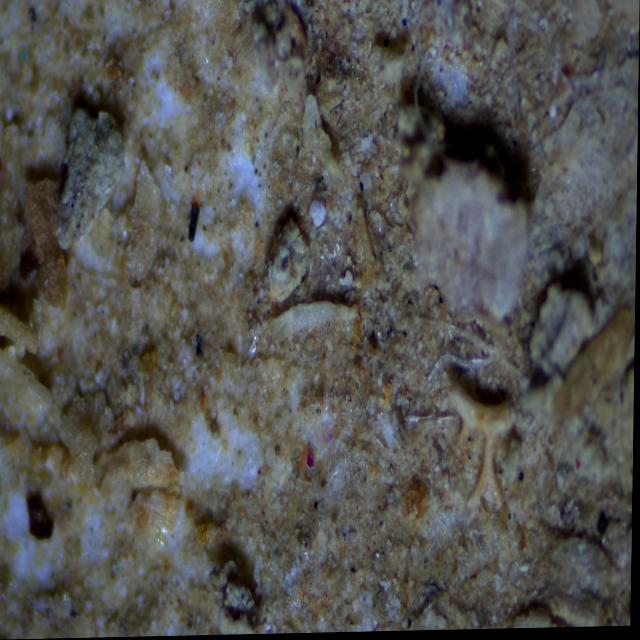microplastic: (307, 457, 316, 473)
